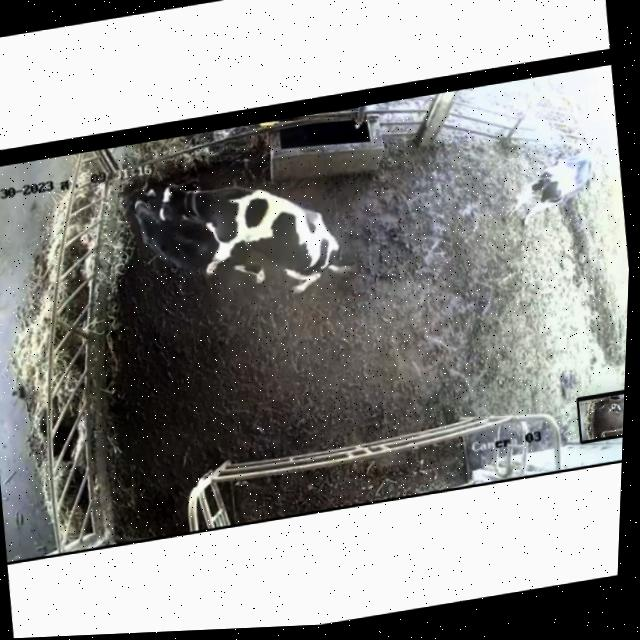ride: (150, 151, 363, 327)
